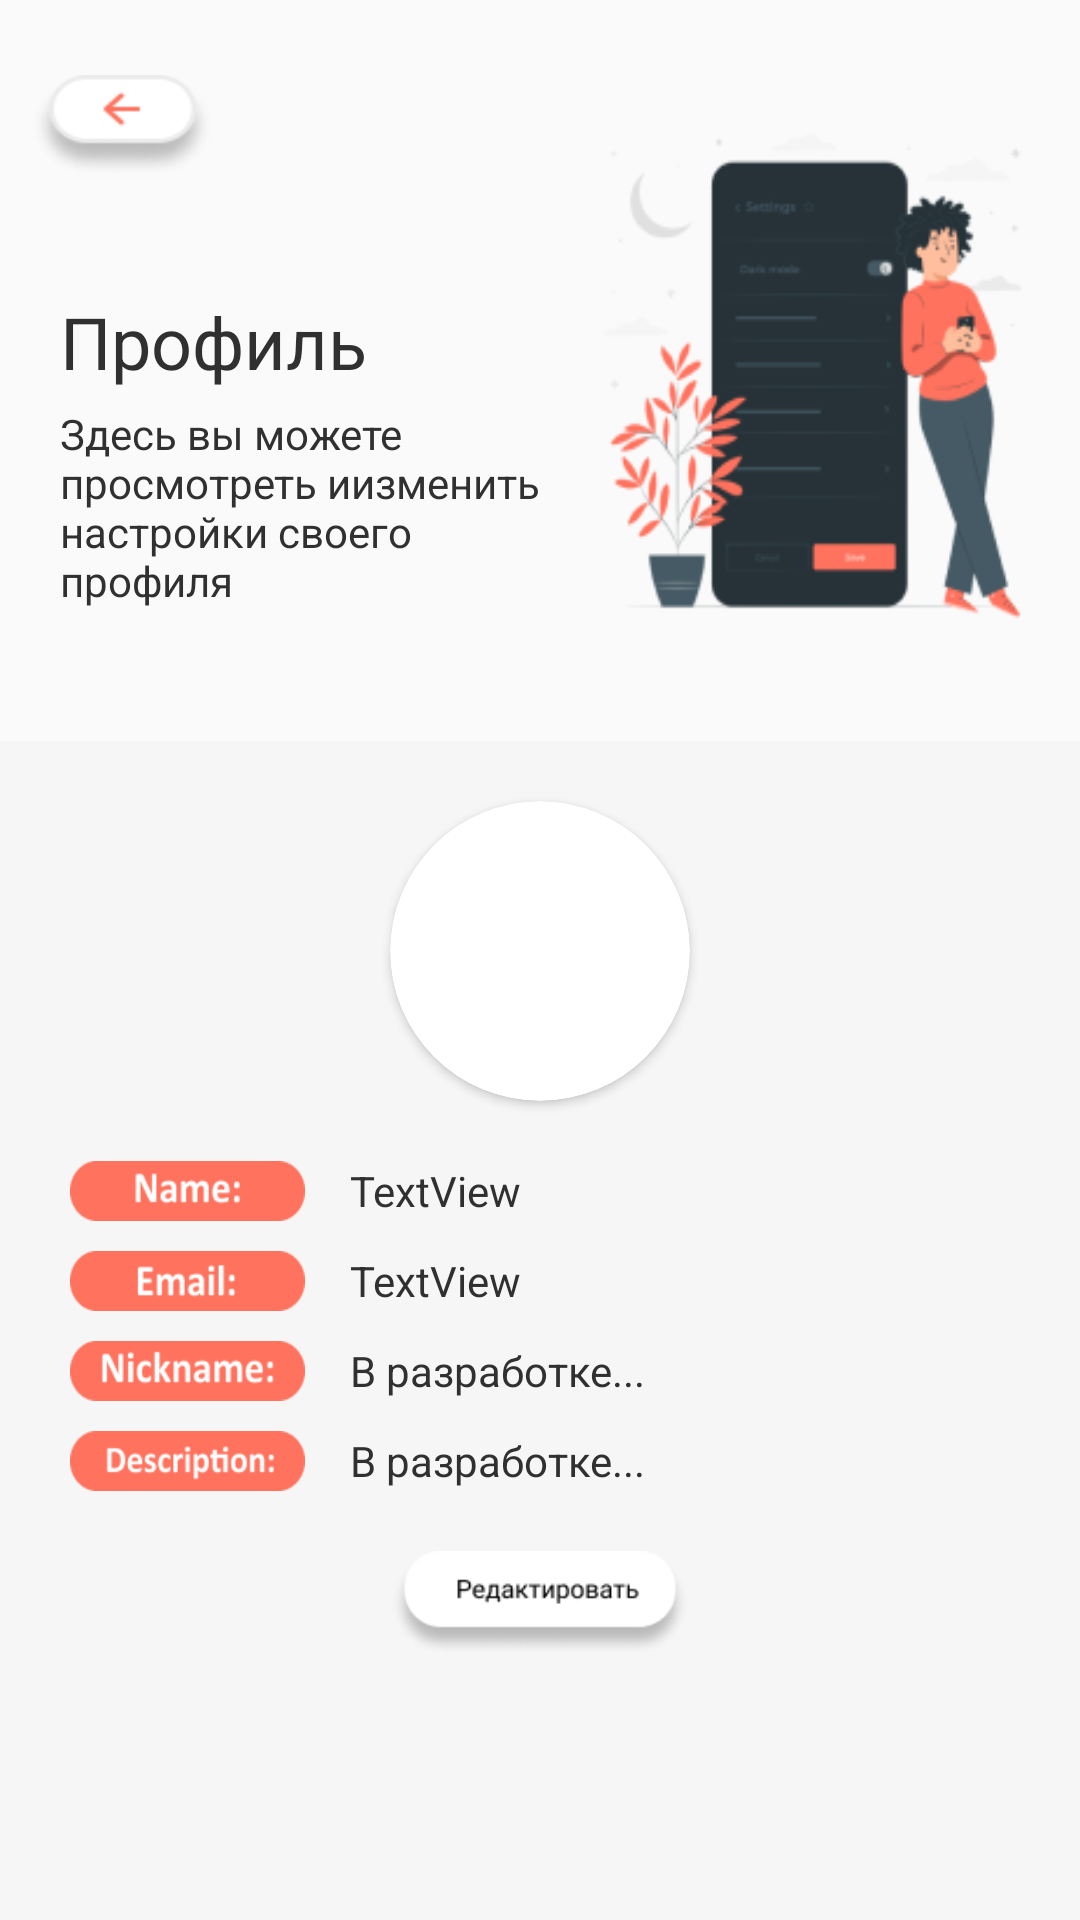

Icons on this 1080 × 1920 Android screen, each with its box as (x1, y1, x2, y2):
backbutton: (48, 92, 198, 162)
